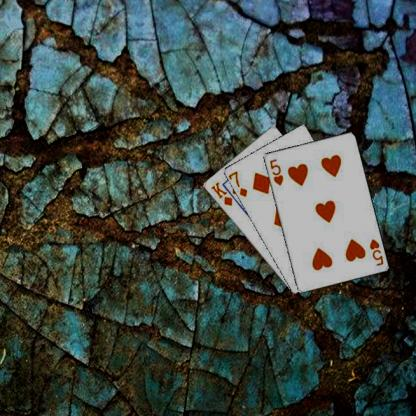5H: (366, 236, 384, 267), (266, 156, 284, 186)
7D: (226, 168, 249, 198)
KD: (208, 180, 233, 208)
